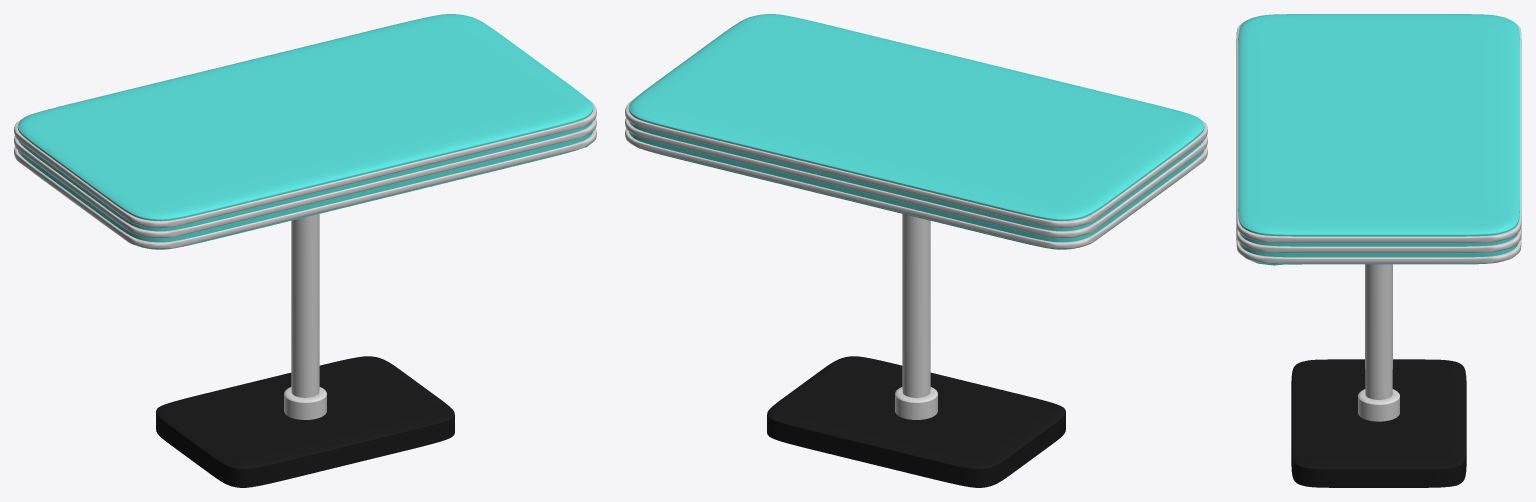
Rendered from retro_table_sm.fbx.
3 views of the same model, side by side, from view 1: azimuth 30°, elevation 25°; view 2: azimuth 150°, elevation 25°; view 3: azimuth 270°, elevation 25° (orthographic). The views are drawn at different scales.
Parts seen in each view (by area): view 1: tabletable_setdech, tabletable_setbottom, pasted__pCylinder1metaltabletable_set, metaltabletable_setpCube1, metaltabletable_setpCube3, metaltabletable_setpCube2, metaltabletable_setpasted__pCylinder3; view 2: tabletable_setdech, tabletable_setbottom, pasted__pCylinder1metaltabletable_set, metaltabletable_setpCube1, metaltabletable_setpCube3, metaltabletable_setpCube2, metaltabletable_setpasted__pCylinder3; view 3: tabletable_setdech, tabletable_setbottom, pasted__pCylinder1metaltabletable_set, metaltabletable_setpCube1, metaltabletable_setpCube3, metaltabletable_setpCube2, metaltabletable_setpasted__pCylinder3.
Part boxes in pixels (x1,y1,x2,y2): tabletable_setdech: (17, 14, 593, 249); tabletable_setbottom: (156, 356, 454, 487); pasted__pCylinder1metaltabletable_set: (291, 214, 319, 397); metaltabletable_setpCube1: (14, 20, 596, 227); metaltabletable_setpCube3: (14, 128, 596, 248); metaltabletable_setpCube2: (14, 118, 596, 237); metaltabletable_setpasted__pCylinder3: (284, 387, 326, 419); tabletable_setdech: (628, 14, 1204, 249); tabletable_setbottom: (767, 356, 1065, 487); pasted__pCylinder1metaltabletable_set: (902, 214, 930, 397); metaltabletable_setpCube1: (625, 20, 1207, 227); metaltabletable_setpCube3: (625, 128, 1207, 248); metaltabletable_setpCube2: (625, 118, 1207, 237); metaltabletable_setpasted__pCylinder3: (895, 387, 937, 419); tabletable_setdech: (1238, 14, 1519, 265); tabletable_setbottom: (1291, 359, 1466, 487); pasted__pCylinder1metaltabletable_set: (1365, 264, 1392, 399); metaltabletable_setpCube1: (1236, 22, 1521, 242); metaltabletable_setpCube3: (1236, 230, 1521, 263); metaltabletable_setpCube2: (1236, 220, 1521, 252); metaltabletable_setpasted__pCylinder3: (1358, 389, 1399, 421).
Bounding box in the file's own units: 2.02 × 1.32 × 1.09.
